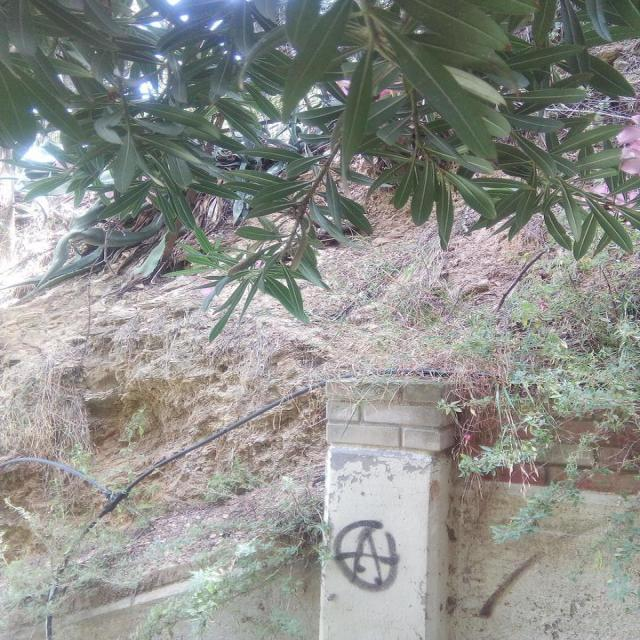nonspitting: (332, 520, 400, 593)
